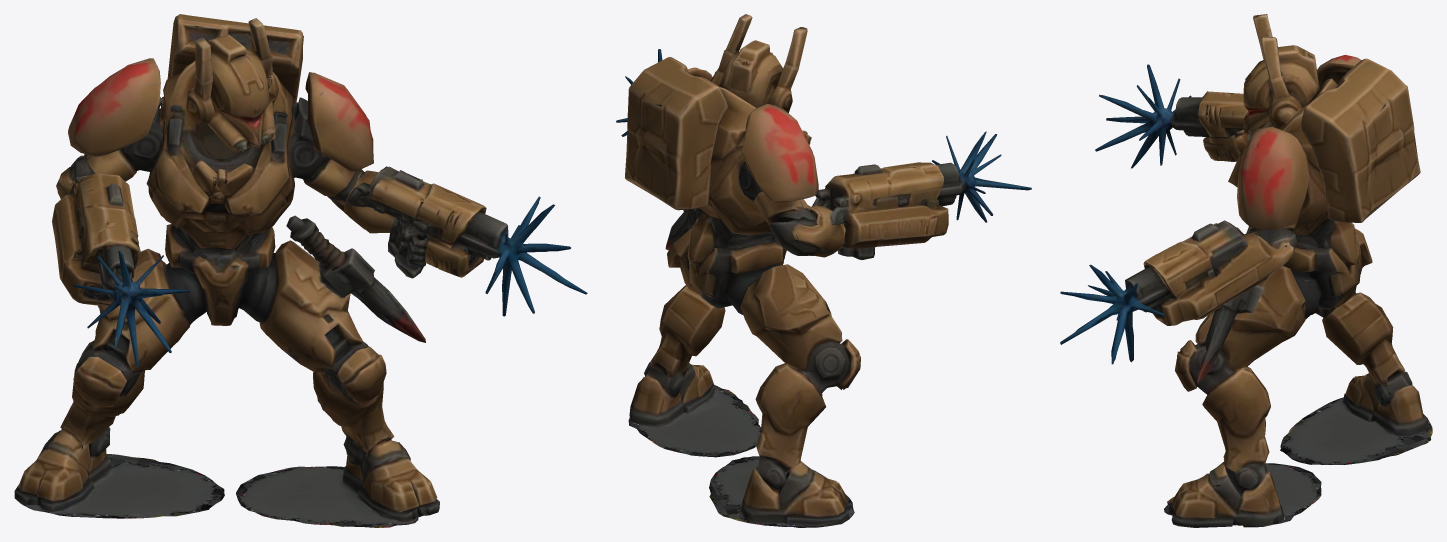
The model's file is 03_Security Grunts.glb.
3 renders of one model, left to right at view 1: azimuth 30°, elevation 25°; view 2: azimuth 150°, elevation 25°; view 3: azimuth 270°, elevation 25°, orthographic. The views are drawn at different scales.
Bounding box in the file's own units: 0.9954 × 0.9976 × 0.7812.
Materials: 1 (1 with a texture image).
